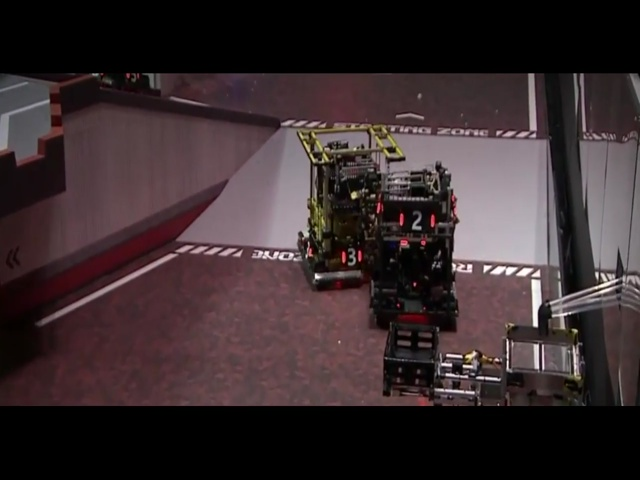bluePlate: (253, 172, 279, 195), (491, 331, 510, 358), (429, 318, 444, 343), (295, 171, 313, 191), (426, 147, 441, 162), (230, 211, 240, 230)
redPlate: (52, 363, 95, 393), (126, 354, 153, 382), (366, 192, 382, 211), (392, 188, 405, 208)
